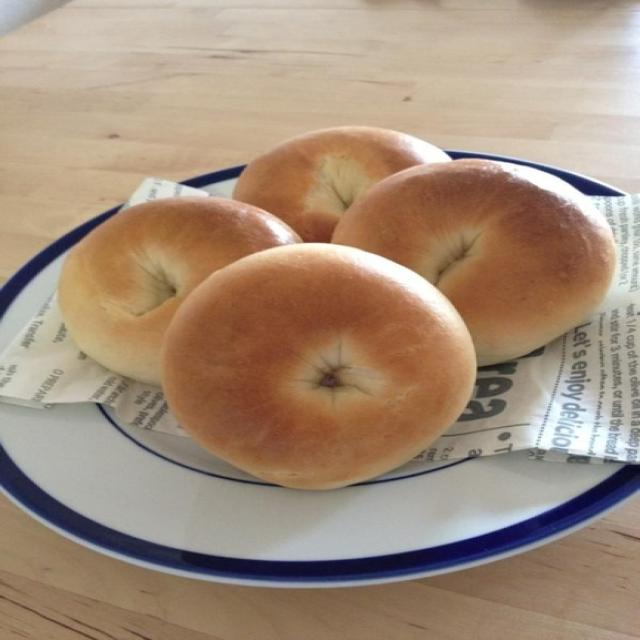面包点心: (30, 58, 625, 528)
